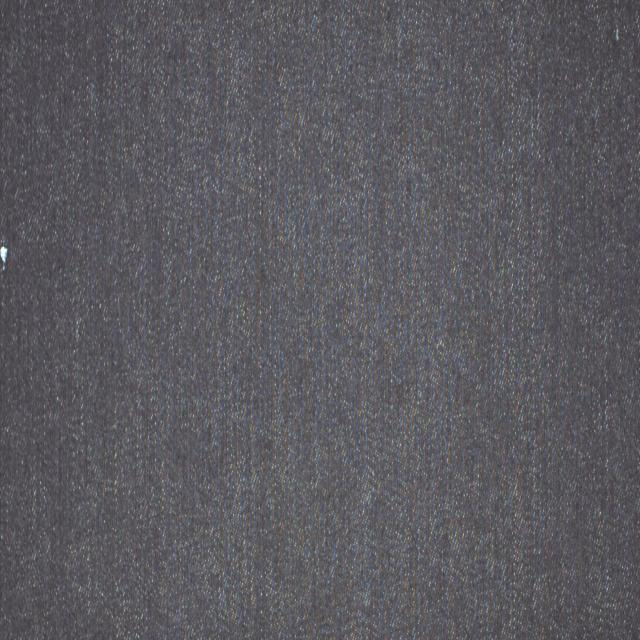Knot: (0, 242, 8, 272)
